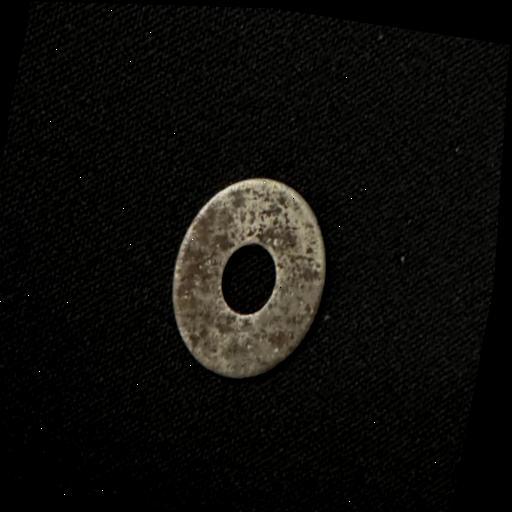Product: (172, 178, 325, 378)
Unclear surface: (159, 170, 331, 368)
